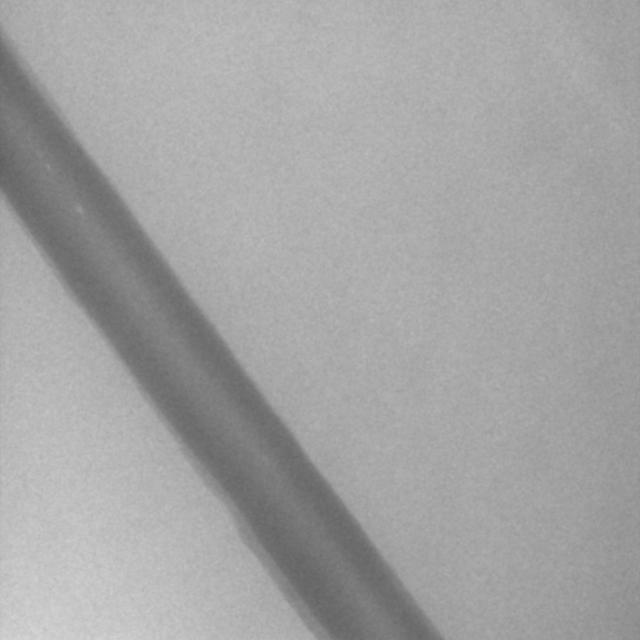air hole: (71, 200, 84, 215)
